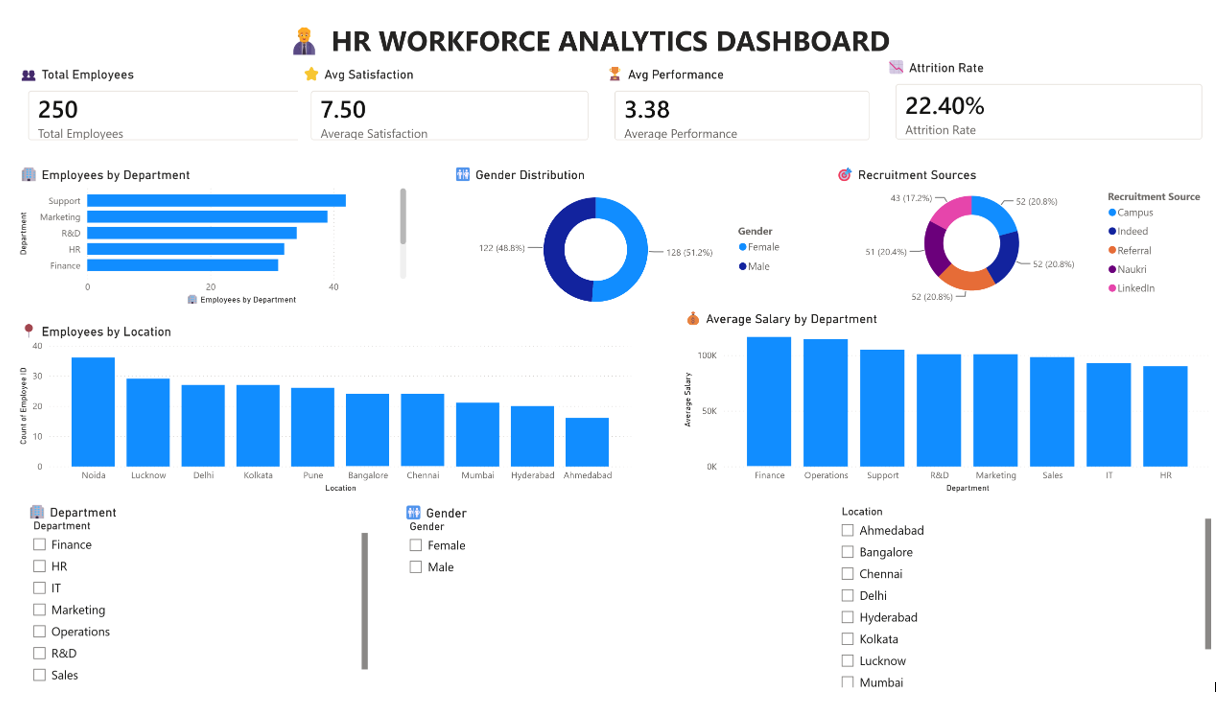

What the dashboard file says about the page in this screenshot:
{"tool":"powerbi","page":{"name":"Page 1","canvas":[1280,720],"ordinal":0},"visuals":[{"type":"textbox","box":[10.1,0,1210.6,89.4],"z":0},{"type":"cardVisual","title":"Total Employees","fields":{"Data":["HR_Data.Total Employees"]},"box":[214.1,90.6,233.3,116.6],"z":1000},{"type":"cardVisual","title":"Avg Satisfaction","fields":{"Data":["HR_Data.Average Satisfaction"]},"box":[447.3,90.6,233.3,116.6],"z":2000},{"type":"cardVisual","title":"Avg Performance","fields":{"Data":["HR_Data.Average Performance"]},"box":[697.1,89.2,233.3,116.6],"z":3000},{"type":"cardVisual","title":"Attrition Rate","fields":{"Data":["HR_Data.Attrition Rate"]},"box":[971.5,91.9,233.3,116.6],"z":4000},{"type":"clusteredBarChart","title":"Employees by Department","fields":{"Category":["HR_Data.Department"],"Y":["CountNonNull(HR_Data.Employee ID)"]},"box":[23.3,242.9,233.3,233.3],"z":5000},{"type":"donutChart","title":"Gender Distribution","fields":{"Category":["HR_Data.Gender"],"Y":["CountNonNull(HR_Data.Employee ID)"]},"box":[256.6,242.9,190.7,233.3],"z":6000},{"type":"clusteredColumnChart","title":"Employees by Location","fields":{"Category":["HR_Data.Location"],"Y":["CountNonNull(HR_Data.Employee ID)"]},"box":[463.8,242.9,233.3,233.3],"z":7000},{"type":"donutChart","title":"Recruitment Sources","fields":{"Category":["HR_Data.Recruitment Source"],"Y":["CountNonNull(HR_Data.Employee ID)"]},"box":[710.8,242.9,205.8,233.3],"z":8000},{"type":"clusteredColumnChart","fields":{"Category":["HR_Data.Department"],"Y":["HR_Data.Average Salary"]},"box":[930.4,242.9,334.8,233.3],"z":9000},{"type":"slicer","fields":{"Values":["HR_Data.Department"]},"box":[23,486,233,233],"z":10000},{"type":"slicer","fields":{"Values":["HR_Data.Location"]},"box":[257,486,191,233],"z":11000},{"type":"slicer","fields":{"Values":["HR_Data.Gender"]},"box":[464,486,233,233],"z":12000}]}

Visuals, with their boxes in screenshot pixels (x1, y1, x2, y2), scaled from the page's 1280x720 canvas onto the 1228x705 screenshot:
textbox: bbox(10, 0, 1171, 88)
"Total Employees" cardVisual: bbox(205, 89, 429, 203)
"Avg Satisfaction" cardVisual: bbox(429, 89, 653, 203)
"Avg Performance" cardVisual: bbox(669, 87, 893, 202)
"Attrition Rate" cardVisual: bbox(932, 90, 1156, 204)
"Employees by Department" clusteredBarChart: bbox(22, 238, 246, 466)
"Gender Distribution" donutChart: bbox(246, 238, 429, 466)
"Employees by Location" clusteredColumnChart: bbox(445, 238, 669, 466)
"Recruitment Sources" donutChart: bbox(682, 238, 879, 466)
clusteredColumnChart - HR_Data.Department x HR_Data.Average Salary: bbox(893, 238, 1214, 466)
slicer - HR_Data.Department: bbox(22, 476, 246, 704)
slicer - HR_Data.Location: bbox(247, 476, 430, 704)
slicer - HR_Data.Gender: bbox(445, 476, 669, 704)
